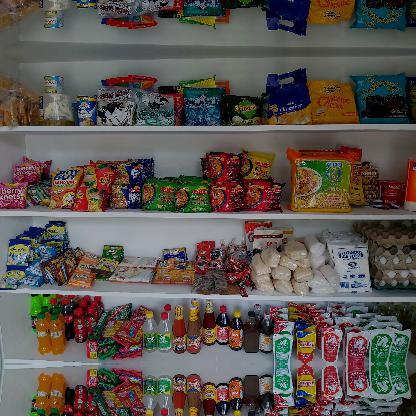Lady-s-Choice: (39, 92, 75, 126), (39, 0, 76, 12)
